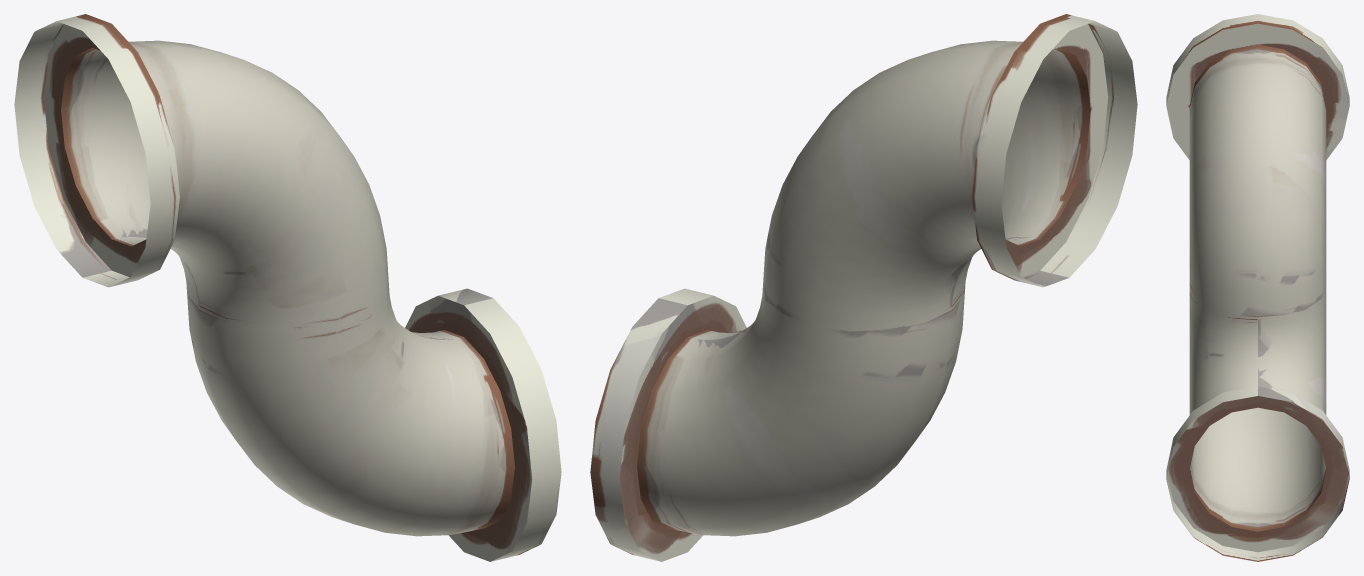
Rendered from industrial_pipe01_s_01.glb.
3 renders of one model, left to right at view 1: azimuth 30°, elevation 25°; view 2: azimuth 150°, elevation 25°; view 3: azimuth 270°, elevation 25°, orthographic. The views are drawn at different scales.
Visible parts, largest first — view 1: industrial_pipe01_s_01; view 2: industrial_pipe01_s_01; view 3: industrial_pipe01_s_01.
Part boxes in pixels (box(x1,y1,x2,y2)): industrial_pipe01_s_01: box(14, 14, 561, 561); industrial_pipe01_s_01: box(590, 14, 1137, 561); industrial_pipe01_s_01: box(1166, 14, 1349, 561).
Bounding box in the file's own units: 1.07 × 1.52 × 0.6126.
Materials: 1 (1 with a texture image).
